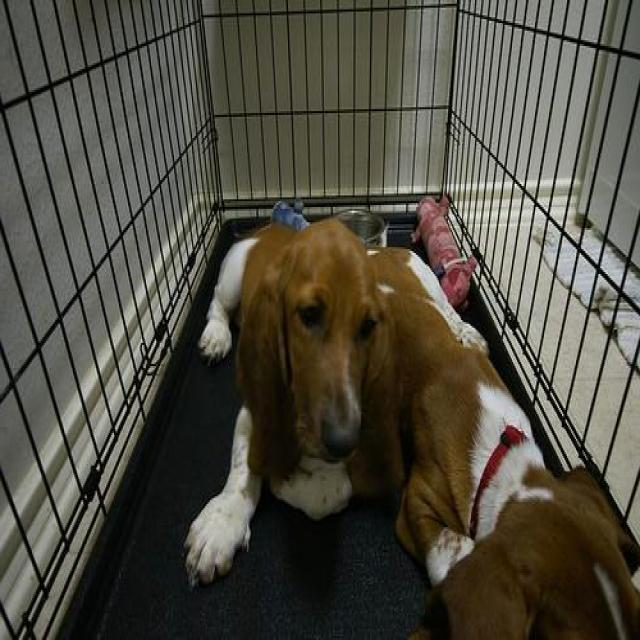basset: (374, 247, 634, 638), (198, 214, 404, 588)
